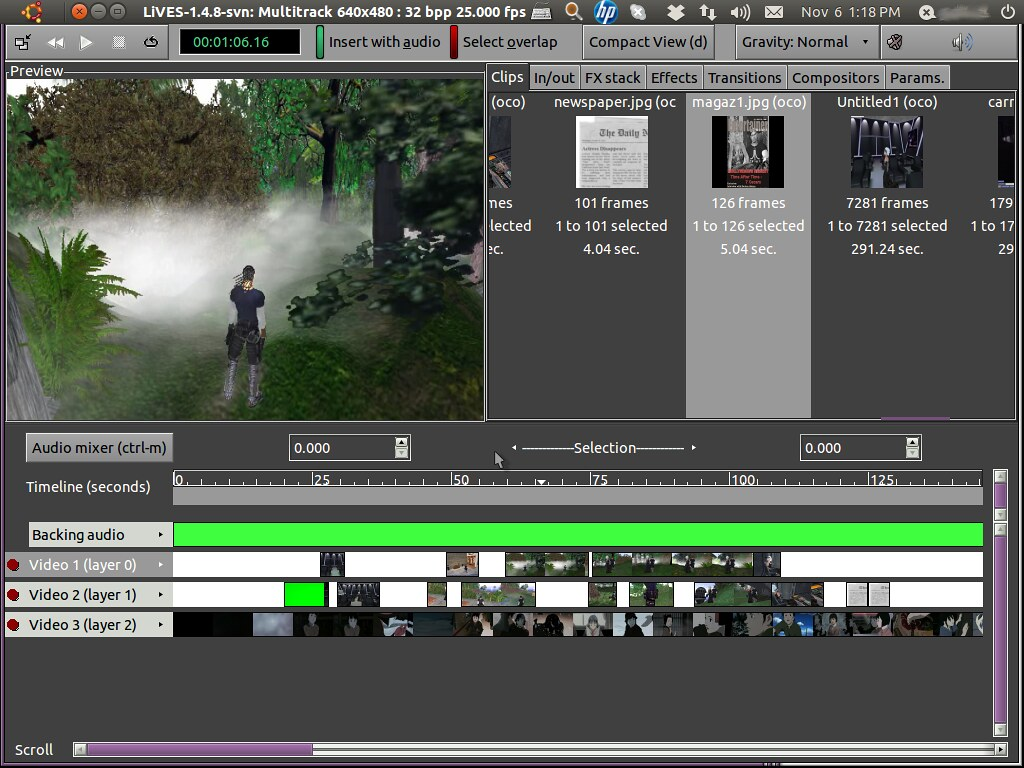button: (173, 470, 983, 488), (582, 24, 716, 60), (735, 26, 880, 59), (313, 24, 442, 60), (25, 432, 174, 463), (447, 24, 562, 60), (89, 741, 315, 757), (992, 536, 1009, 723), (788, 64, 886, 89), (704, 66, 787, 91), (885, 65, 951, 90), (582, 66, 646, 90), (1, 1, 65, 24), (646, 66, 703, 91), (529, 65, 581, 91), (485, 62, 530, 92), (882, 28, 908, 56), (949, 29, 978, 54), (592, 1, 622, 25), (561, 1, 588, 24), (529, 1, 557, 23), (996, 1, 1022, 24), (627, 1, 650, 24), (11, 32, 35, 54), (729, 2, 753, 22), (665, 3, 686, 24), (697, 3, 718, 24), (109, 32, 130, 52), (762, 4, 786, 21), (108, 1, 127, 22), (915, 4, 937, 22), (70, 739, 89, 759), (993, 484, 1008, 509), (44, 35, 67, 51), (77, 34, 96, 53), (141, 33, 161, 51), (70, 2, 88, 21), (89, 2, 106, 21), (992, 468, 1009, 485), (994, 742, 1009, 759), (992, 723, 1009, 738), (904, 447, 922, 461), (393, 447, 412, 460), (993, 521, 1009, 535), (393, 436, 411, 447), (994, 509, 1009, 522), (154, 617, 166, 633), (905, 436, 921, 447), (507, 441, 519, 455), (688, 441, 700, 455), (154, 559, 167, 571), (154, 528, 165, 541), (154, 589, 165, 601)
common: (825, 195, 949, 258), (554, 194, 671, 259), (690, 195, 807, 258), (180, 29, 300, 55), (489, 195, 535, 260), (967, 195, 1014, 258), (23, 477, 151, 499), (550, 92, 681, 112), (27, 584, 139, 607), (519, 441, 688, 455), (27, 555, 138, 576), (833, 93, 942, 113), (26, 616, 137, 635), (687, 95, 811, 112), (798, 4, 904, 22), (31, 524, 127, 543), (11, 738, 59, 760), (489, 94, 527, 112), (985, 93, 1015, 111)
container: (2, 424, 1024, 768), (5, 467, 1013, 760), (488, 63, 1019, 424), (3, 62, 486, 422), (540, 91, 685, 419), (814, 93, 958, 420), (685, 92, 812, 419), (1, 24, 1024, 61), (27, 521, 985, 548), (3, 552, 984, 577), (1, 1, 1024, 24), (4, 582, 983, 606), (4, 613, 982, 636), (69, 738, 1010, 760), (173, 612, 983, 636), (173, 583, 982, 606), (959, 92, 1014, 420), (489, 92, 539, 418), (486, 63, 1018, 90), (6, 25, 169, 60), (4, 582, 173, 608), (5, 612, 173, 637), (4, 554, 173, 578), (27, 521, 174, 548), (992, 522, 1010, 738), (506, 439, 701, 458), (991, 467, 1011, 523)
header: (139, 2, 527, 20), (8, 63, 65, 79)
image: (6, 78, 485, 422), (173, 523, 983, 547), (712, 116, 785, 188), (576, 116, 648, 188), (851, 116, 923, 188), (591, 551, 781, 578), (694, 582, 824, 608), (504, 551, 589, 578), (462, 583, 535, 606), (489, 116, 511, 189), (998, 116, 1015, 191), (284, 582, 329, 607), (337, 582, 380, 608), (531, 612, 573, 638), (629, 582, 674, 606), (727, 613, 773, 636), (846, 582, 890, 606), (332, 613, 373, 637), (374, 612, 415, 636), (573, 611, 612, 636), (611, 613, 653, 636), (453, 612, 493, 636), (492, 612, 531, 636), (252, 613, 292, 636), (774, 613, 814, 636), (892, 613, 932, 636), (415, 612, 453, 636), (933, 612, 971, 636), (445, 551, 479, 577), (293, 613, 331, 636), (654, 614, 692, 637), (854, 613, 892, 636), (815, 613, 852, 636), (693, 614, 725, 636), (320, 552, 346, 578), (588, 583, 616, 607), (427, 582, 446, 607), (489, 450, 508, 470), (5, 586, 23, 604), (4, 555, 21, 573), (6, 616, 22, 634), (972, 612, 982, 636)
text-input: (800, 433, 923, 462), (289, 436, 411, 461)
